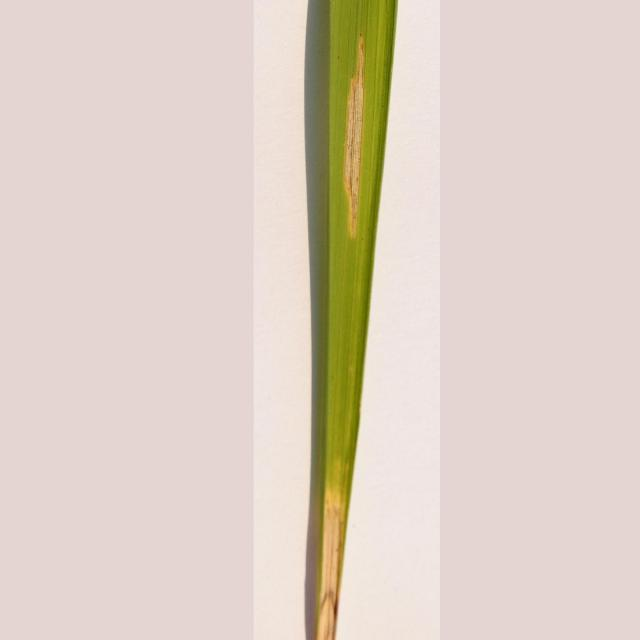leaf blight: (320, 19, 374, 244), (299, 473, 348, 638)
